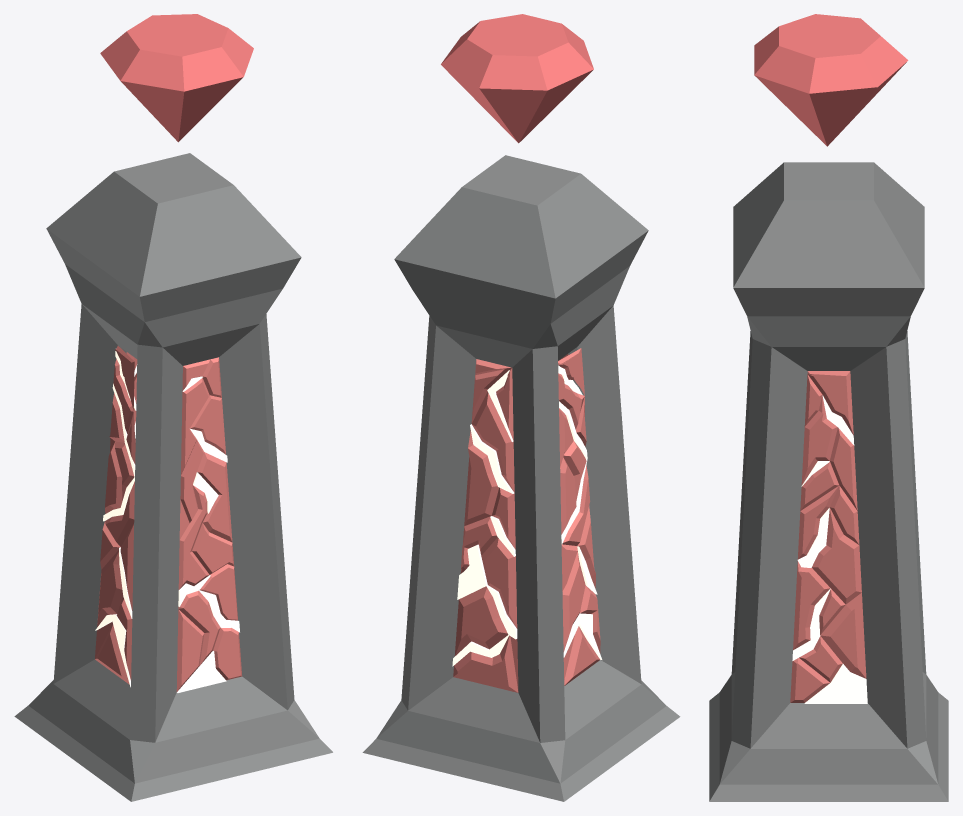
The model's file is REDSUBTLEGLOW.fbx.
3 renders of one model, left to right at view 1: azimuth 30°, elevation 25°; view 2: azimuth 150°, elevation 25°; view 3: azimuth 270°, elevation 25°, orthographic. The views are drawn at different scales.
Parts seen in each view (by area): view 1: Plane.009, Plane.010, Cone.004, Plane.011; view 2: Plane.009, Plane.010, Cone.004, Plane.011; view 3: Plane.009, Plane.010, Cone.004, Plane.011.
Boxes of the visible parts, x1,y1,x2,y2 form: Plane.009: (14,153,332,801); Plane.010: (95,346,242,691); Cone.004: (100,14,253,142); Plane.011: (95,351,239,692); Plane.009: (362,155,680,801); Plane.010: (453,348,600,692); Cone.004: (441,14,593,143); Plane.011: (452,365,602,666); Plane.009: (709,162,948,801); Plane.010: (790,371,866,702); Cone.004: (754,14,908,146); Plane.011: (792,395,867,703).
Size of the model in its own units: 157 by 520 by 157.
